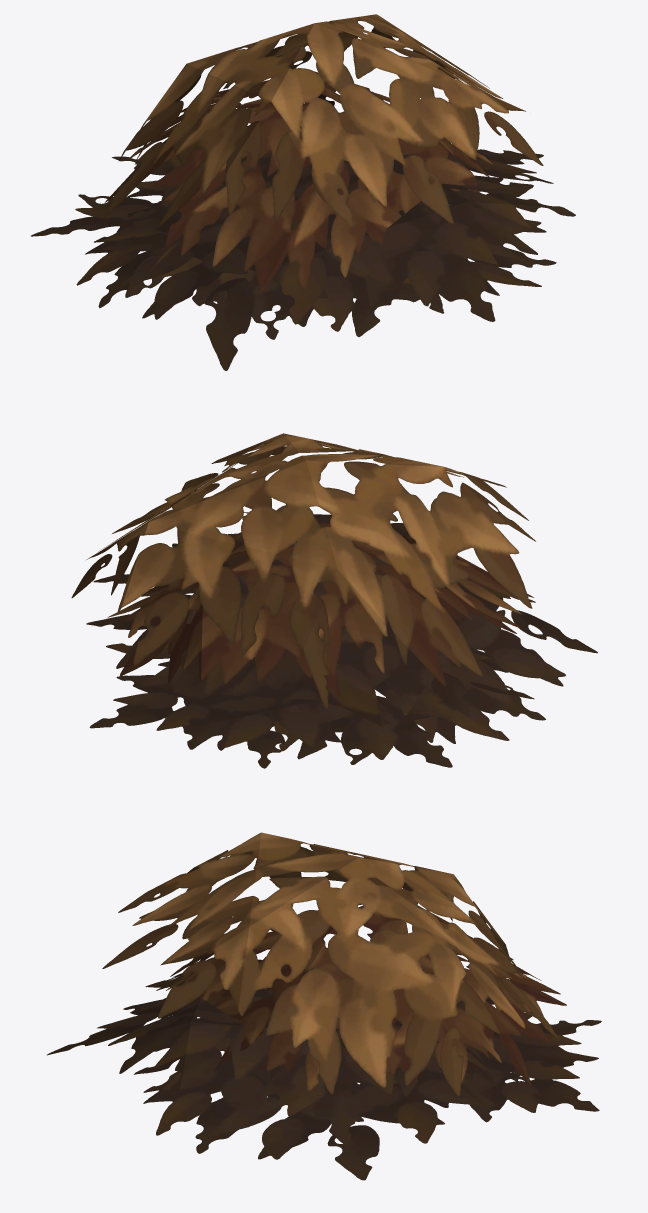
Rendered from bush_dead_06.fbx.
3 views of the same model, one above another, from view 1: azimuth 30°, elevation 25°; view 2: azimuth 150°, elevation 25°; view 3: azimuth 270°, elevation 25° (orthographic).
Parts seen in each view (by area): view 1: obj0.252; view 2: obj0.252; view 3: obj0.252.
Part boxes in pixels (x1,y1,x2,y2): obj0.252: (31, 14, 575, 370); obj0.252: (71, 433, 597, 768); obj0.252: (47, 832, 601, 1180).
Bounding box in the file's own units: 3.52 × 1.55 × 3.61.
